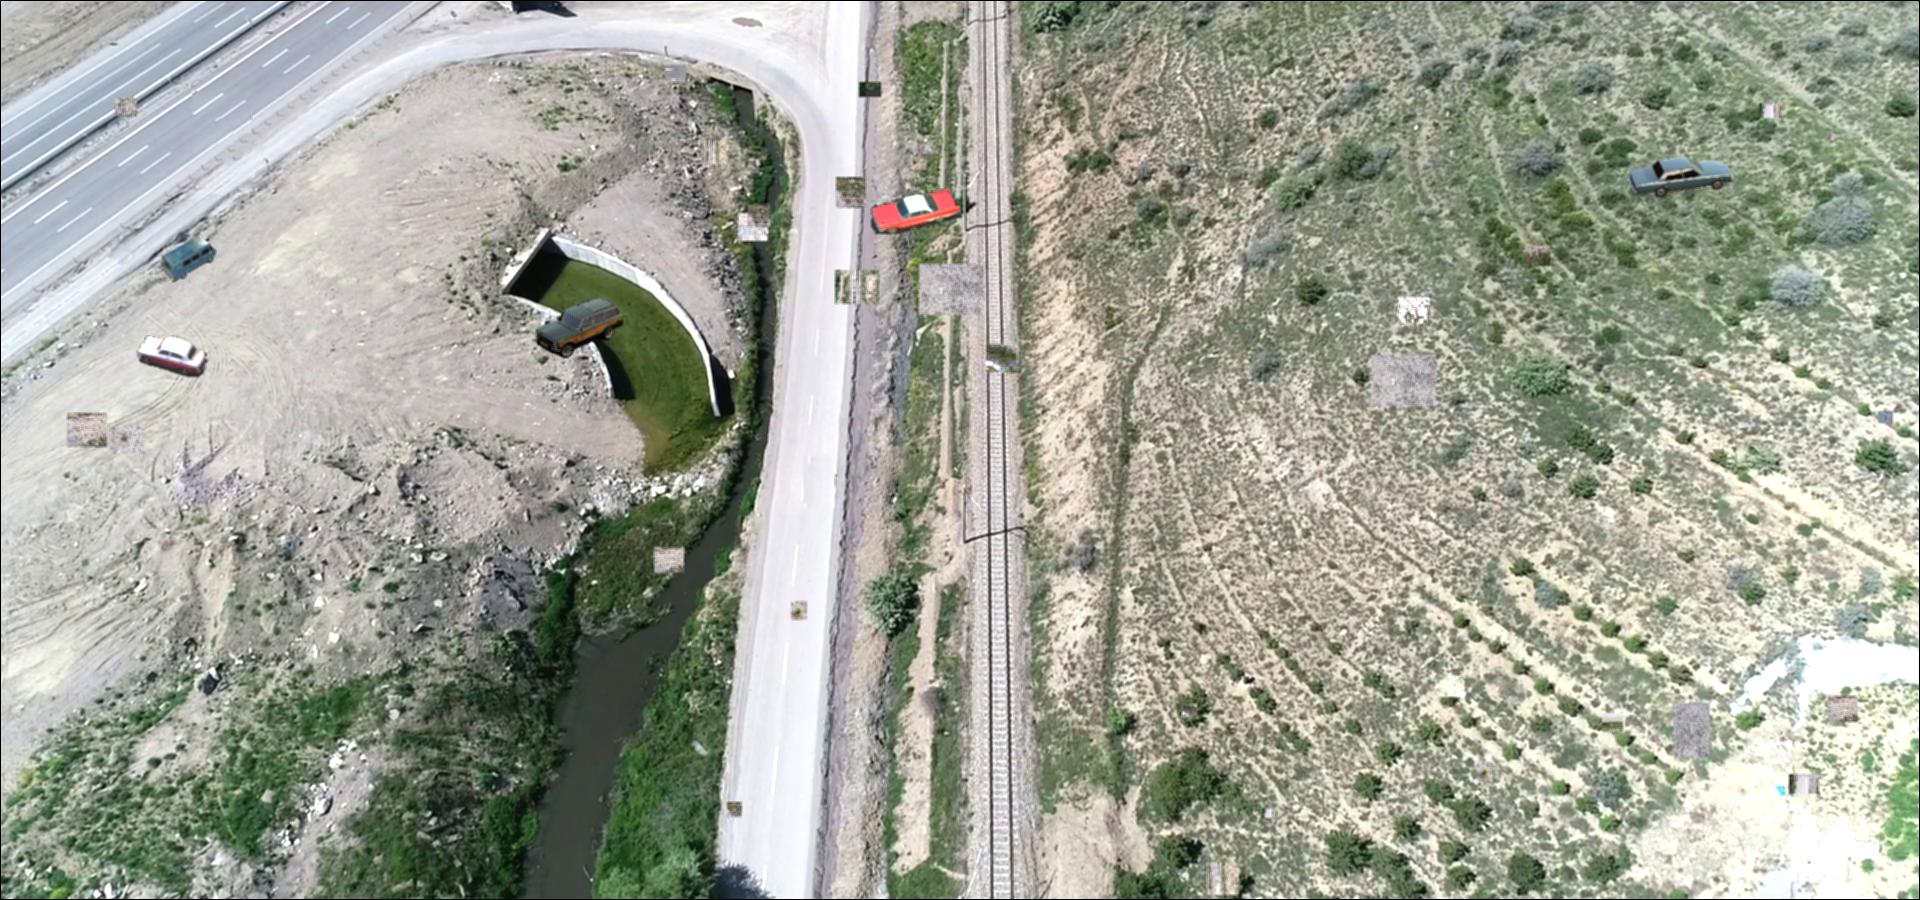arac: (536, 298, 623, 358), (1626, 156, 1738, 198), (871, 189, 961, 234), (133, 331, 209, 380), (160, 234, 217, 283)
